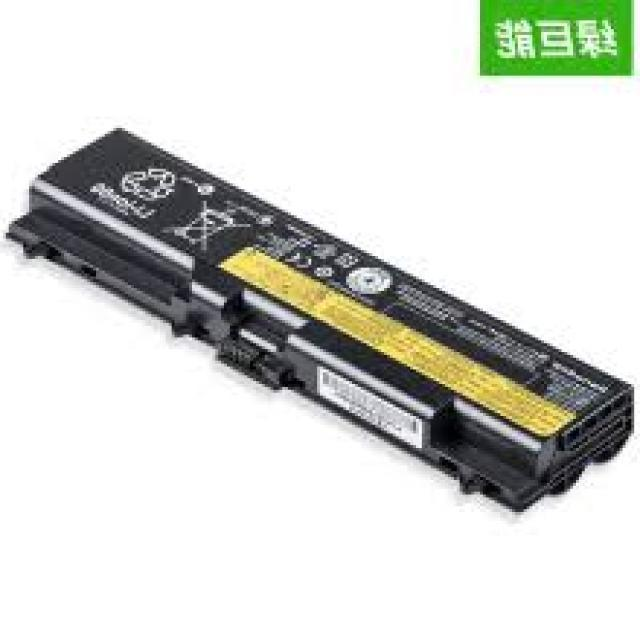battery: (0, 125, 634, 518)
